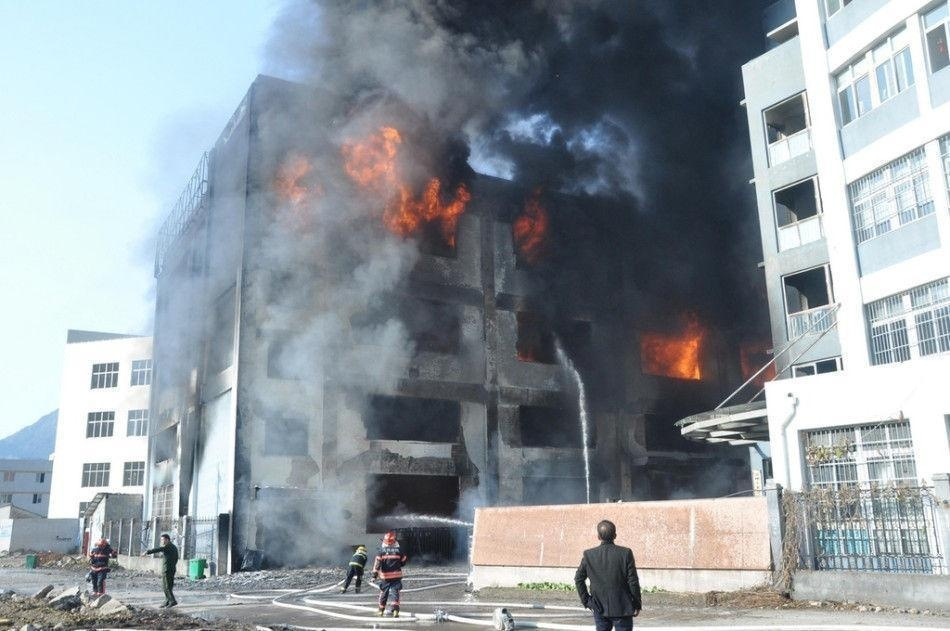fire: (310, 123, 468, 237), (643, 323, 705, 378), (273, 146, 321, 209), (513, 197, 550, 255)
